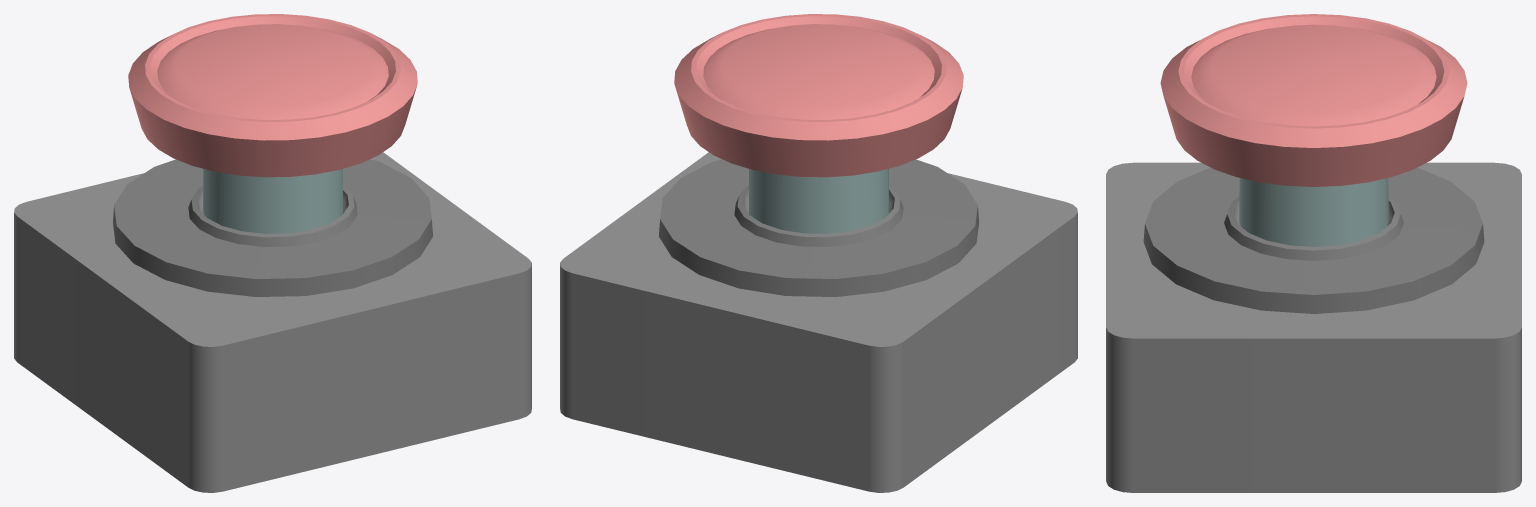
Rendered from BigRedButton.glb.
3 renders of one model, left to right at view 1: azimuth 30°, elevation 25°; view 2: azimuth 150°, elevation 25°; view 3: azimuth 270°, elevation 25°, orthographic. The views are drawn at different scales.
Parts seen in each view (by area): view 1: EmergencyStopPlate, EmergencyStop; view 2: EmergencyStopPlate, EmergencyStop; view 3: EmergencyStopPlate, EmergencyStop.
Boxes of the visible parts, <box> form: EmergencyStopPlate: <box>14,152,531,492</box>; EmergencyStop: <box>128,14,417,233</box>; EmergencyStopPlate: <box>560,152,1077,492</box>; EmergencyStop: <box>674,14,963,233</box>; EmergencyStopPlate: <box>1106,162,1521,492</box>; EmergencyStop: <box>1160,14,1467,246</box>.
Size of the model in its own units: 0.1276 by 0.1153 by 0.1276.
